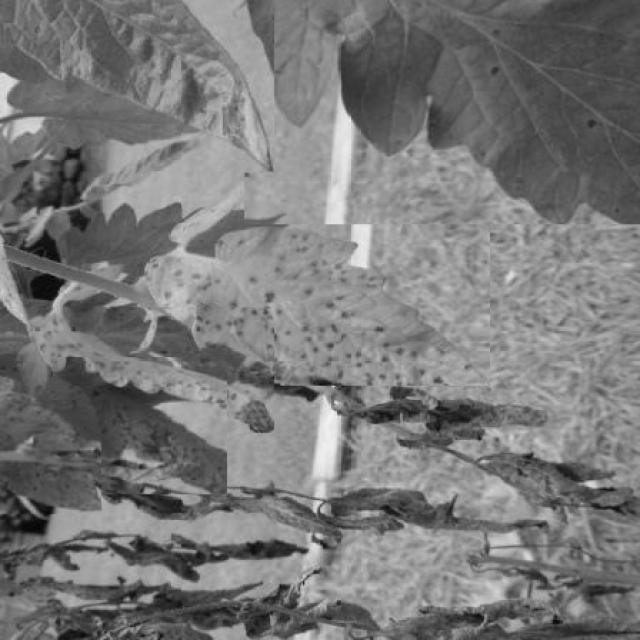Septoria: (244, 0, 639, 224), (159, 224, 491, 386), (0, 0, 274, 173), (22, 307, 274, 433), (53, 357, 227, 494), (0, 386, 101, 514)
